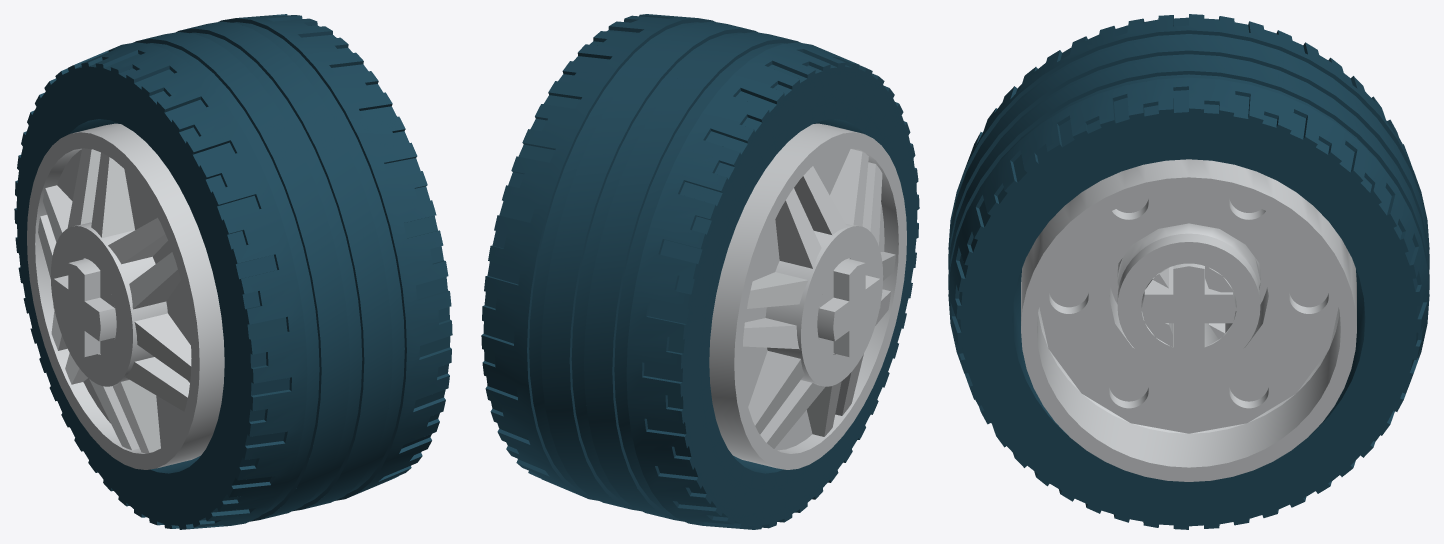
File: Wheel_test1.fbx
The picture shows the model from 3 angles, left to right: view 1: azimuth 30°, elevation 25°; view 2: azimuth 150°, elevation 25°; view 3: azimuth 270°, elevation 25°; orthographic projection. The views are drawn at different scales.
Visible parts, largest first — view 1: Tire, Wheel, Axle; view 2: Tire, Wheel, Axle; view 3: Tire, Wheel, Stud, Axle.
Boxes of the visible parts, bbox=[...] form: Tire: bbox=[14, 14, 452, 529]; Wheel: bbox=[27, 123, 224, 469]; Axle: bbox=[52, 259, 116, 357]; Tire: bbox=[481, 14, 919, 529]; Wheel: bbox=[709, 123, 906, 469]; Axle: bbox=[817, 259, 881, 357]; Tire: bbox=[948, 14, 1429, 529]; Wheel: bbox=[1021, 159, 1356, 481]; Stud: bbox=[1117, 223, 1260, 371]; Axle: bbox=[1141, 263, 1236, 351].
Bounding box in the file's own units: 156 × 239 × 239.
